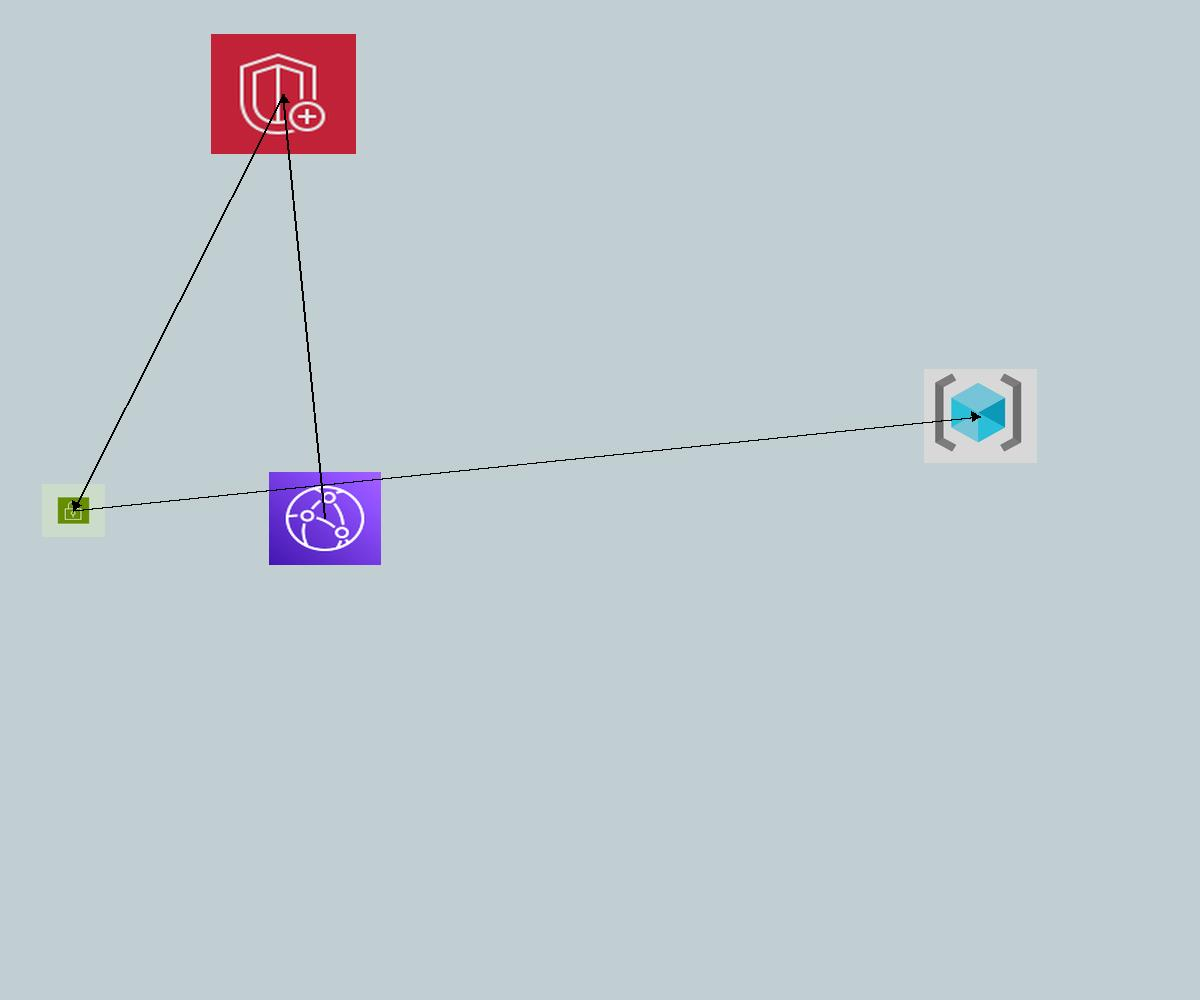AWS-CloudFront: (269, 472, 381, 565)
AWS-Public-subnet: (42, 484, 105, 537)
AWS-Shield: (211, 34, 356, 154)
Azure_resource_group: (924, 369, 1037, 463)
